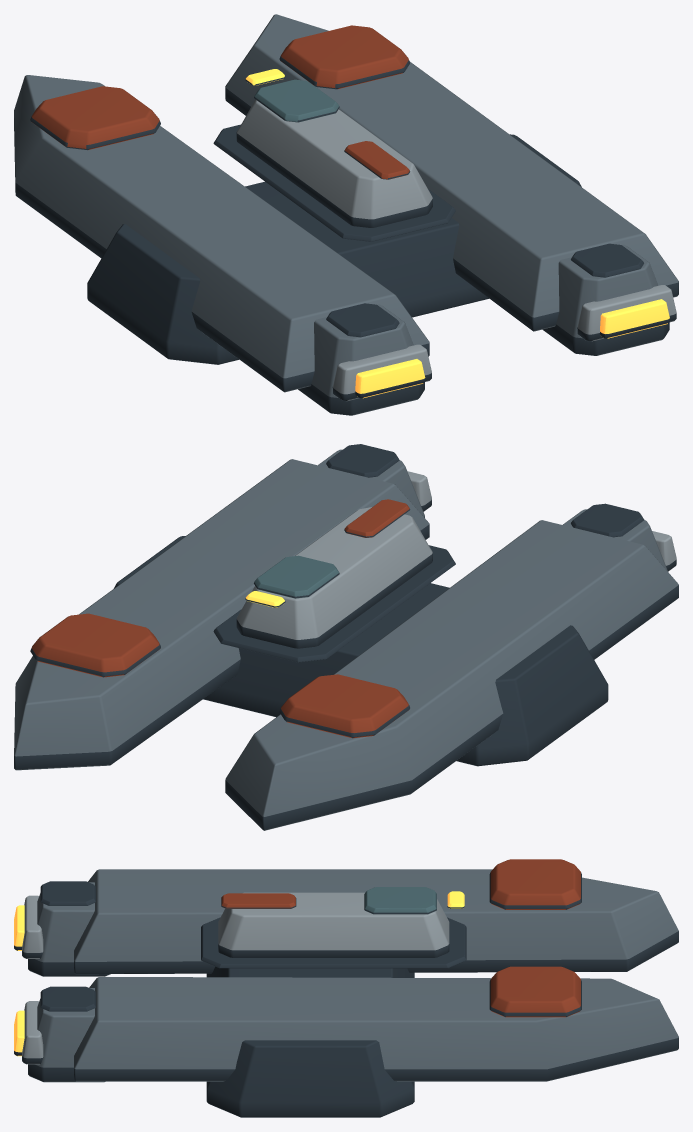
Rendered from enemy-medium-1slot.glb.
The picture shows the model from 3 angles, top to bottom: view 1: azimuth 30°, elevation 25°; view 2: azimuth 150°, elevation 25°; view 3: azimuth 270°, elevation 25°; orthographic projection. The views are drawn at different scales.
Visible parts, largest first — view 1: Twin prow, Twin prow.001, Transverse bridge, Command spine, Rust prow, Rust prow.001, Engine cowling.001, Engine cowling, Recessed command well, Recessed bridge glass, Exhaust lip.001, Exhaust lip (+5 smaller); view 2: Twin prow, Twin prow.001, Transverse bridge, Command spine, Rust prow.001, Rust prow, Recessed command well, Recessed bridge glass, Engine inset.001, Engine inset, Rust axial stripe, Engine cowling.001 (+1 smaller); view 3: Twin prow.001, Twin prow, Transverse bridge, Command spine, Rust prow.001, Rust prow, Recessed command well, Engine cowling, Engine cowling.001, Recessed bridge glass, Engine inset.001, Engine inset (+5 smaller).
Boxes of the visible parts, x1,y1,x2,y2 form: Twin prow: (14,75,429,392); Twin prow.001: (225,14,678,331); Transverse bridge: (87,134,581,364); Command spine: (236,99,432,227); Rust prow: (30,86,160,150); Rust prow.001: (279,25,409,89); Engine cowling.001: (542,244,669,355); Engine cowling: (298,304,424,415); Recessed command well: (213,124,455,241); Recessed bridge glass: (254,79,339,122); Exhaust lip.001: (577,285,676,341); Exhaust lip: (332,344,431,401); Twin prow: (225,520,678,830); Twin prow.001: (14,459,429,770); Transverse bridge: (114,536,608,766); Command spine: (236,507,432,648); Rust prow.001: (30,613,160,677); Rust prow: (279,674,409,738); Recessed command well: (213,545,455,662); Recessed bridge glass: (254,555,339,598); Engine inset.001: (326,444,399,477); Engine inset: (571,503,643,537); Rust axial stripe: (344,499,410,537); Engine cowling.001: (318,449,424,517); Twin prow.001: (74,977,678,1081); Twin prow: (74,869,678,974); Transverse bridge: (206,966,414,1117); Command spine: (218,892,449,957); Rust prow.001: (489,966,581,1017); Rust prow: (489,859,581,909); Recessed command well: (201,917,466,968); Engine cowling: (28,882,110,976); Engine cowling.001: (28,988,105,1082); Recessed bridge glass: (364,887,436,914); Engine inset.001: (40,986,95,1011); Engine inset: (40,881,95,905).
Size of the model in its own units: 3.9 by 1.2 by 5.76.
